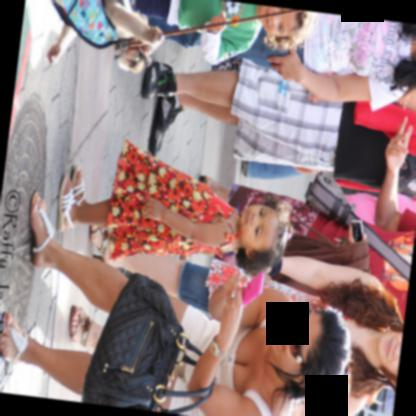handbag: (79, 272, 214, 413), (307, 170, 410, 282), (270, 232, 368, 301)
